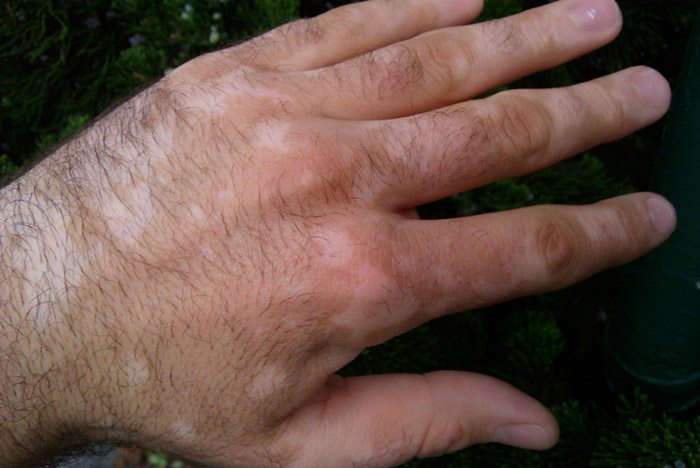vitiligo: (40, 107, 410, 432)
